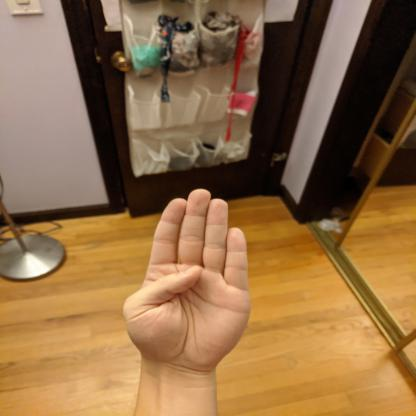B: (117, 186, 254, 376)
